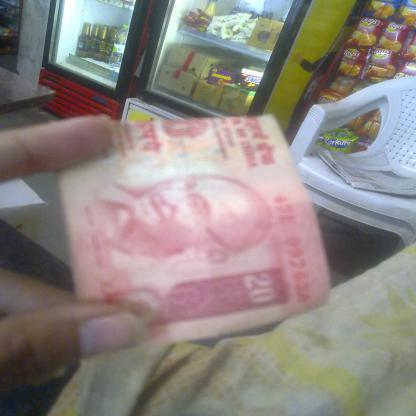Old20Front: (57, 115, 331, 342)
